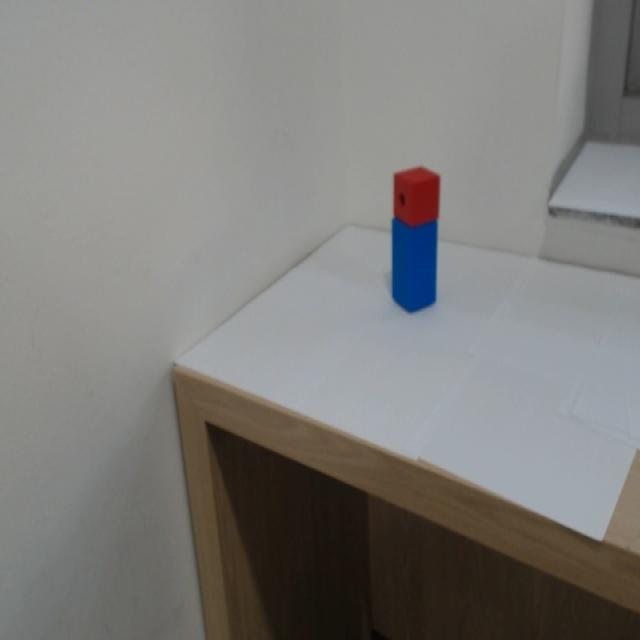cube: (391, 154, 445, 226)
